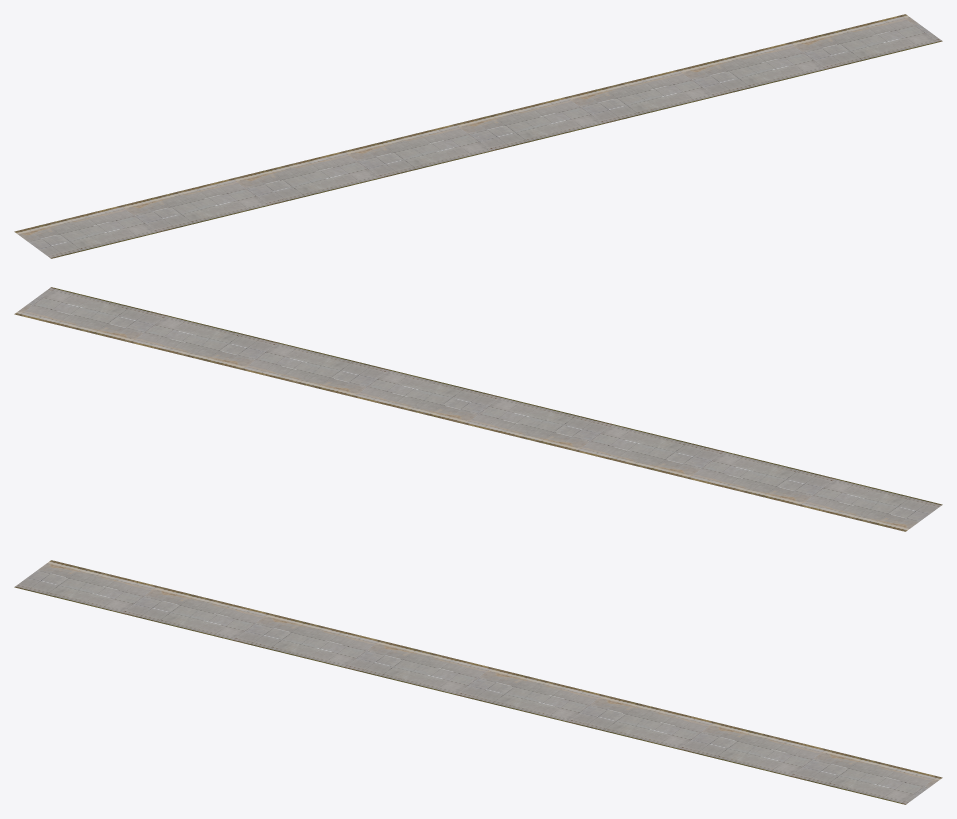
File: Road_Base.fbx
The picture shows the model from 3 angles, top to bottom: view 1: azimuth 30°, elevation 25°; view 2: azimuth 150°, elevation 25°; view 3: azimuth 330°, elevation 25°; orthographic projection.
Visible parts, largest first — view 1: Road1; view 2: Road1; view 3: Road1.
Part boxes in pixels (x1=…): Road1: x1=14, y1=14, x2=942, y2=258; Road1: x1=14, y1=287, x2=942, y2=531; Road1: x1=14, y1=560, x2=942, y2=804.
Size of the model in its own units: 17.81 by 0 by 1.29.
